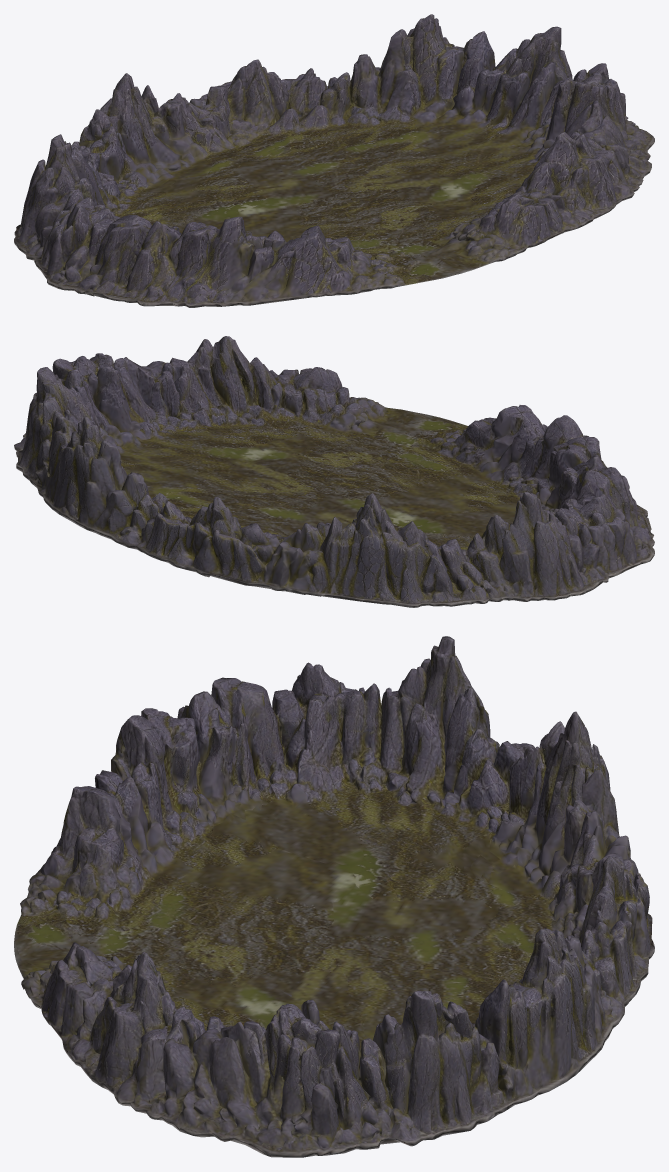
Rendered from Meshy_AI_Dark_Swamp_Terrain_20261030_texture.fbx.
The picture shows the model from 3 angles, top to bottom: view 1: azimuth 30°, elevation 25°; view 2: azimuth 150°, elevation 25°; view 3: azimuth 270°, elevation 25°; orthographic projection. The views are drawn at different scales.
Visible parts, largest first — view 1: Mesh_0; view 2: Mesh_0; view 3: Mesh_0.
Boxes of the visible parts, x1,y1,x2,y2 form: Mesh_0: [14, 14, 654, 307]; Mesh_0: [14, 336, 654, 607]; Mesh_0: [14, 636, 654, 1157].
Bounding box in the file's own units: 200 × 30.59 × 125.
1 material, 1 textured.
